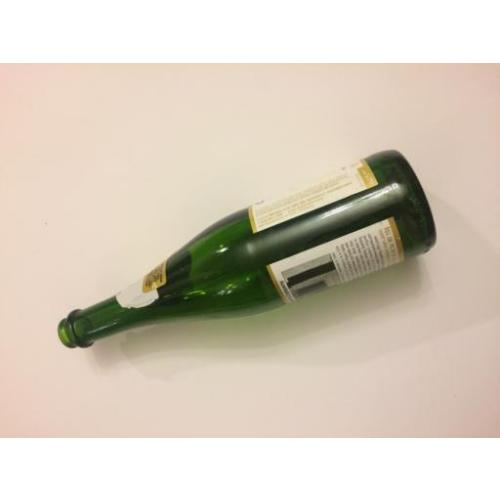glass: (58, 148, 437, 352)
